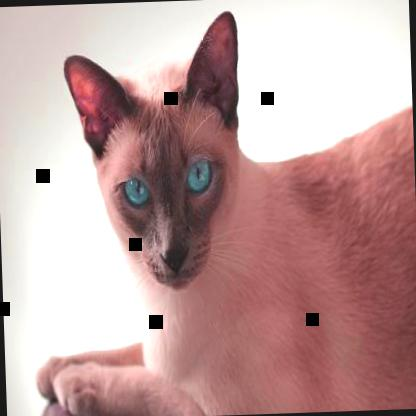cat: (26, 2, 415, 415)
